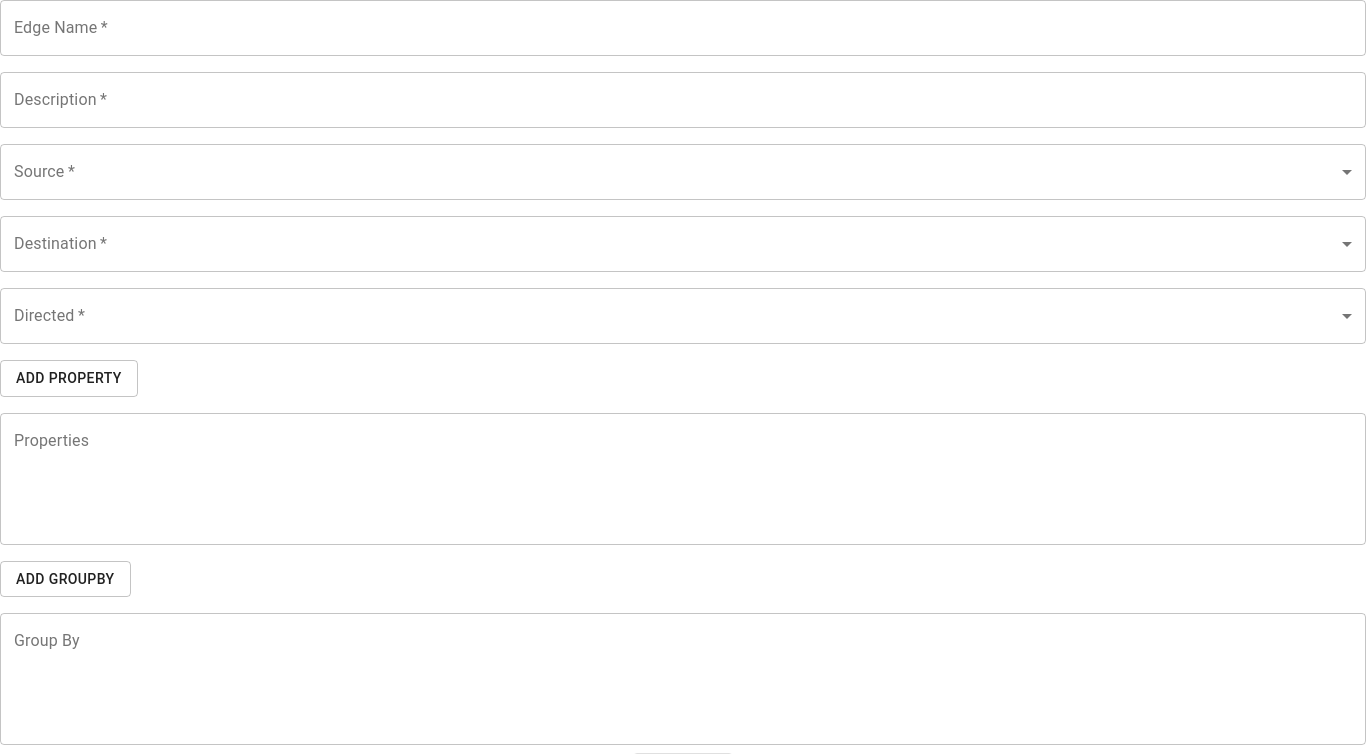
Scenario: Add Edge UI Component › Add Edge inputs › should display error message when invalid edge name entered
The image size is (1366, 754).
In the field with id "edge-name-input": (683, 28) [0, 0, 1365, 56], type "edge name 1"
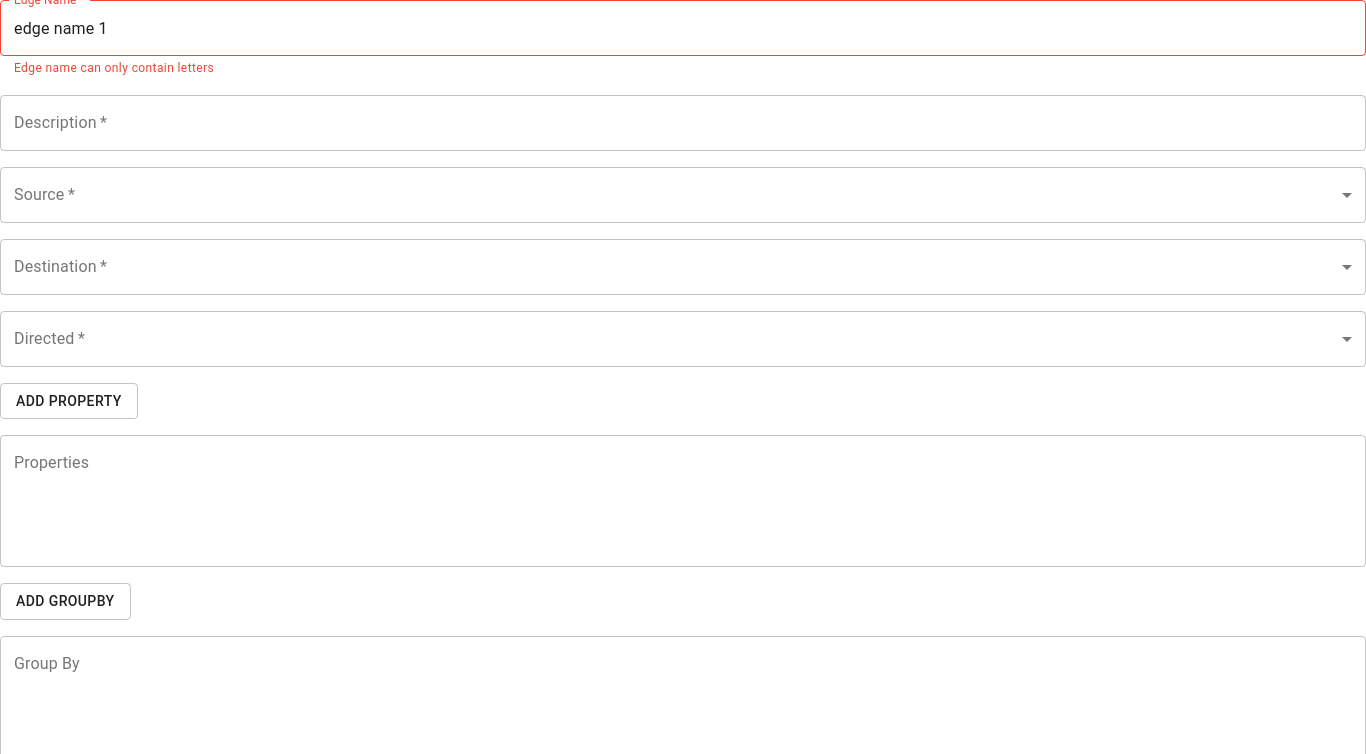
Expected: the text with id "edge-name-input-helper-text" reads "Edge name can only contain letters", [14, 61, 214, 75]
